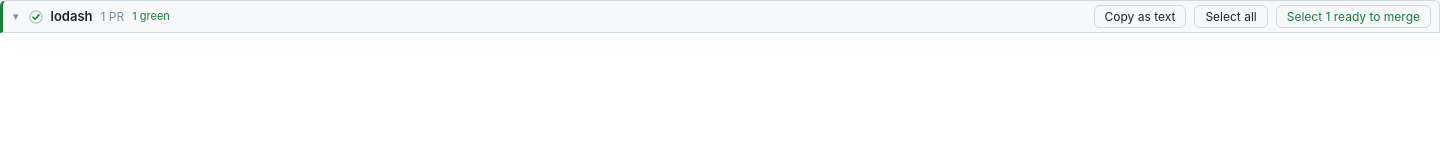
Scenario: GroupHeader › says so when the clipboard refuses, rather than looking like nothing happened
What coordinates should you click on to do the following:
click the button "Copy as text"
I would click on:
 (1140, 16)
Its box is [1094,5,1186,28].
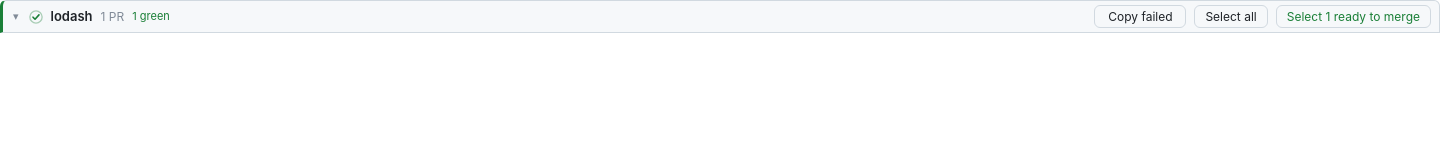
Check: the button "Copy failed" is shown, box [1094,5,1186,28]
